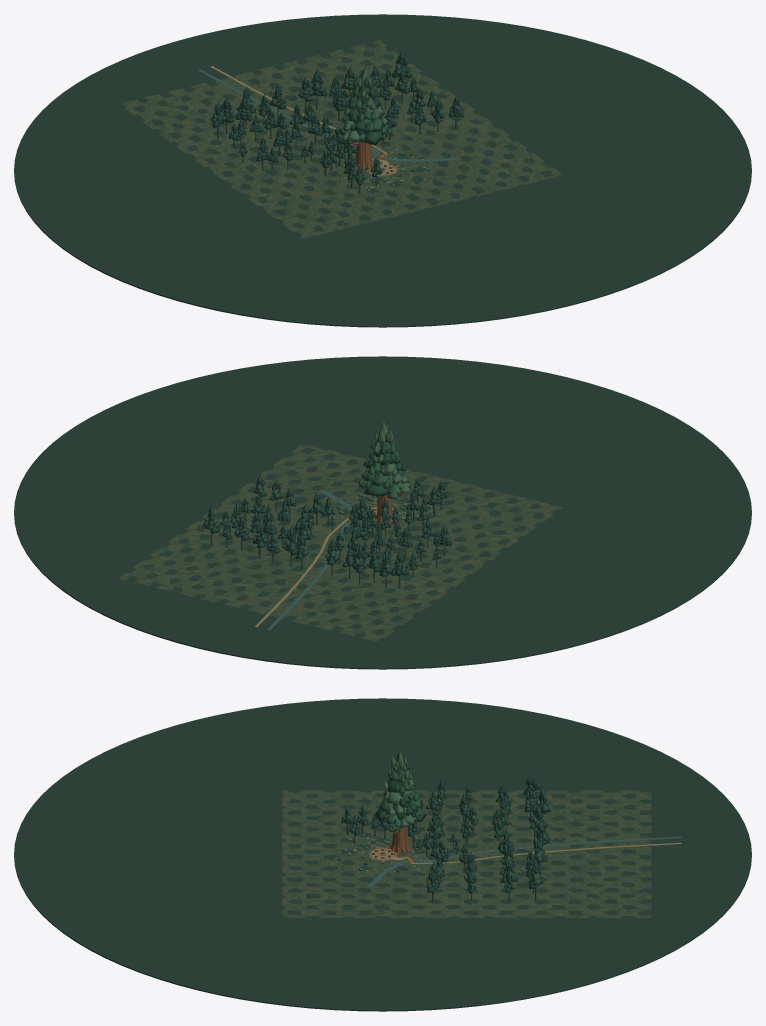
Rendered from pine-camp.glb.
3 views of the same model, one above another, from view 1: azimuth 30°, elevation 25°; view 2: azimuth 150°, elevation 25°; view 3: azimuth 270°, elevation 25° (orthographic).
Visible parts, largest first — view 1: forest-263e35, forest-ffffff, forest-38493c; view 2: forest-263e35, forest-ffffff, forest-38493c; view 3: forest-263e35, forest-ffffff, forest-355e5b, forest-38493c.
Part boxes in pixels (box(x1,y1,x2,y2)): forest-263e35: box(14, 14, 751, 327); forest-ffffff: box(122, 40, 562, 238); forest-38493c: box(217, 86, 457, 193); forest-263e35: box(14, 356, 751, 669); forest-ffffff: box(118, 420, 563, 641); forest-38493c: box(210, 496, 445, 588); forest-263e35: box(14, 698, 751, 1011); forest-ffffff: box(282, 750, 681, 918); forest-355e5b: box(368, 836, 681, 887); forest-38493c: box(346, 799, 543, 902).
Bounding box in the file's own units: 220 × 33.27 × 220.
